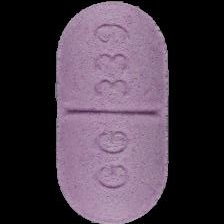0781-5188: (0, 0, 224, 224)
